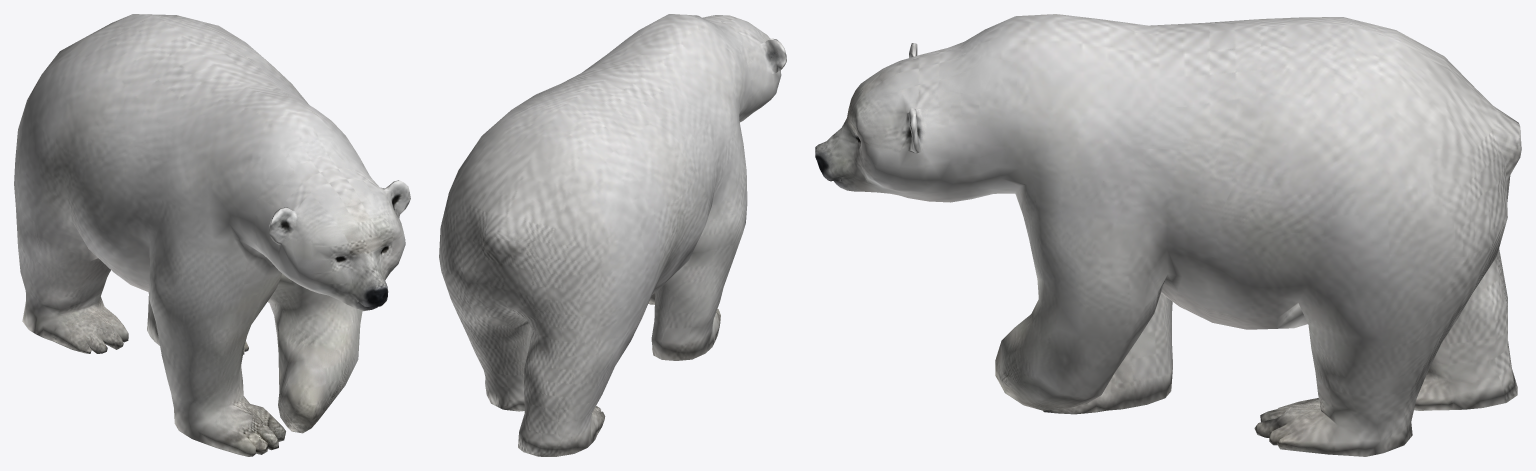
File: Meshy_AI__0911202127_texture.glb
The picture shows the model from 3 angles, left to right: view 1: azimuth 30°, elevation 25°; view 2: azimuth 150°, elevation 25°; view 3: azimuth 270°, elevation 25°; orthographic projection. The views are drawn at different scales.
Parts seen in each view (by area): view 1: Mesh_0.002; view 2: Mesh_0.002; view 3: Mesh_0.002.
Part boxes in pixels (x1,y1,x2,y2): Mesh_0.002: [14, 14, 410, 456]; Mesh_0.002: [439, 14, 786, 456]; Mesh_0.002: [815, 14, 1521, 456].
Bounding box in the file's own units: 1.43 × 2 × 3.26.
1 material, 1 textured.
